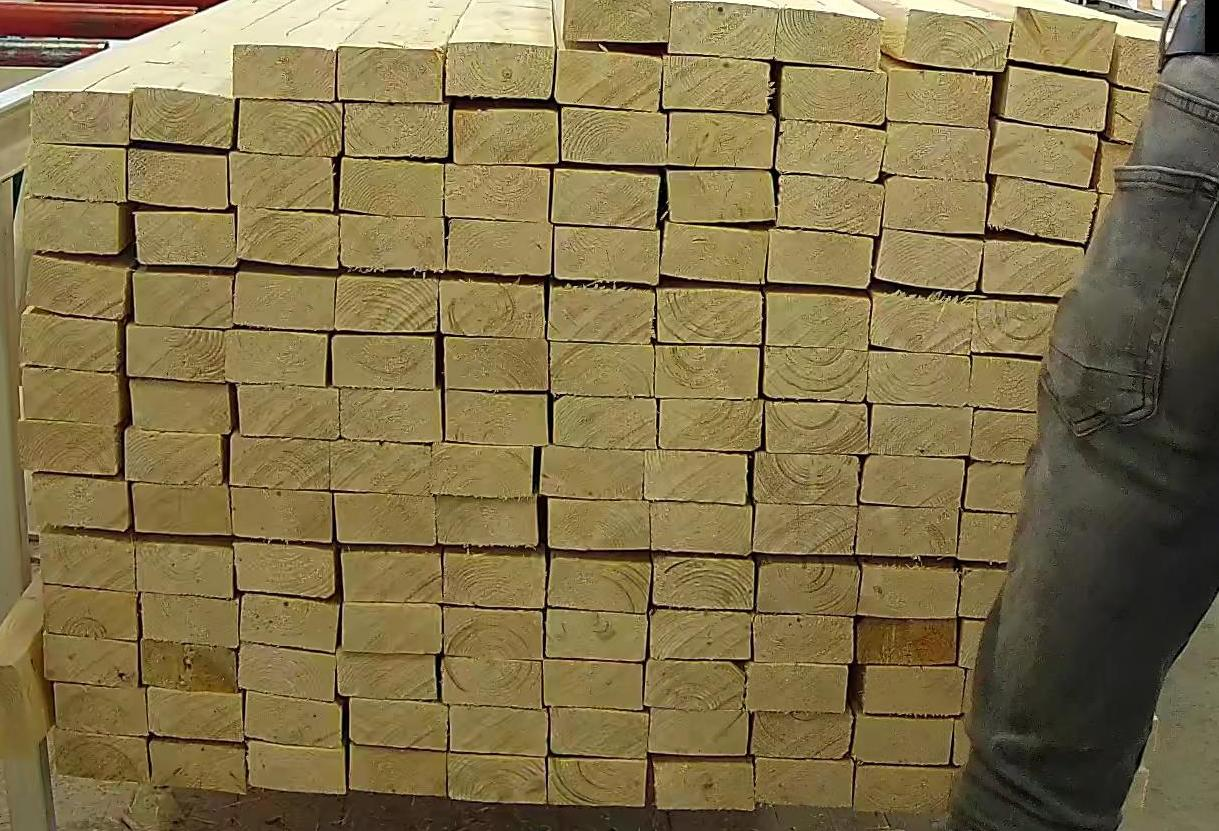Wood-Plank: (995, 64, 1111, 131), (957, 567, 1082, 627), (992, 117, 1100, 186), (990, 175, 1100, 242), (1096, 139, 1210, 202), (1013, 3, 1117, 71), (974, 299, 1092, 358), (25, 253, 130, 319), (773, 9, 884, 71), (661, 221, 770, 284), (876, 228, 985, 291), (555, 47, 663, 110), (887, 63, 995, 126), (777, 119, 888, 180), (960, 513, 1083, 568), (971, 353, 1085, 412), (551, 167, 661, 228), (779, 173, 886, 235), (131, 84, 234, 148), (905, 9, 1010, 71), (780, 64, 888, 124), (20, 307, 120, 371), (548, 553, 652, 614), (1111, 34, 1210, 98), (669, 0, 778, 58), (770, 228, 875, 288), (1108, 85, 1207, 148), (874, 291, 976, 352), (22, 196, 131, 253), (548, 285, 655, 343), (960, 620, 1077, 673), (127, 147, 227, 209), (562, 105, 667, 164), (669, 111, 777, 168), (883, 123, 991, 180), (972, 411, 1080, 468), (339, 156, 443, 215), (555, 225, 659, 284), (448, 217, 553, 275), (664, 54, 769, 112), (234, 270, 335, 330), (21, 367, 125, 425), (237, 98, 341, 156), (334, 274, 438, 332), (440, 279, 544, 337), (886, 175, 990, 233), (237, 207, 337, 267), (340, 214, 445, 271), (124, 426, 223, 486), (132, 268, 231, 328), (453, 108, 559, 164), (982, 238, 1086, 295), (444, 552, 546, 610), (239, 594, 339, 653), (769, 291, 872, 348), (229, 153, 333, 209), (658, 287, 762, 343), (868, 350, 972, 406), (233, 43, 335, 100), (759, 559, 861, 616), (39, 531, 134, 592), (17, 419, 120, 475), (135, 210, 236, 267), (444, 164, 548, 219), (551, 341, 655, 396), (129, 378, 231, 434), (26, 142, 124, 200), (668, 170, 777, 222), (332, 334, 435, 389), (644, 450, 747, 505), (858, 564, 961, 619), (237, 644, 334, 702), (967, 462, 1073, 515), (553, 395, 657, 449), (764, 347, 868, 401), (346, 102, 448, 157), (431, 443, 533, 498), (31, 475, 129, 532), (125, 323, 223, 380), (754, 452, 861, 504), (540, 446, 643, 500), (446, 390, 547, 445), (226, 330, 325, 386), (230, 434, 329, 490), (235, 543, 334, 599), (444, 337, 548, 390), (655, 345, 761, 397), (654, 555, 754, 610), (659, 399, 764, 451), (861, 455, 966, 507), (341, 549, 442, 603), (29, 88, 128, 143), (339, 389, 441, 442), (871, 404, 973, 457), (140, 593, 238, 648), (245, 693, 341, 749), (237, 386, 338, 439), (547, 609, 648, 662), (655, 759, 756, 812), (136, 542, 231, 598), (767, 402, 869, 454), (854, 715, 956, 767), (449, 43, 551, 95), (231, 488, 331, 541), (652, 502, 752, 555), (337, 46, 435, 100), (747, 663, 850, 714), (756, 504, 859, 555), (863, 666, 966, 717), (341, 603, 442, 655), (335, 494, 436, 546), (444, 607, 543, 660), (442, 657, 542, 709), (860, 505, 960, 557), (331, 442, 429, 495), (149, 740, 245, 794), (248, 742, 345, 795), (544, 660, 644, 711), (652, 609, 752, 660), (645, 660, 745, 711), (51, 729, 147, 782), (146, 688, 242, 741), (336, 651, 437, 701), (756, 758, 855, 809), (755, 614, 854, 665), (855, 766, 958, 815), (349, 699, 446, 751), (42, 635, 137, 688), (448, 754, 546, 805), (550, 710, 649, 760), (437, 498, 538, 547), (349, 746, 446, 797), (751, 712, 854, 760), (53, 683, 146, 736), (450, 707, 548, 757), (548, 500, 650, 548), (132, 485, 229, 535), (43, 587, 136, 639), (650, 709, 749, 757), (140, 642, 235, 692), (549, 760, 646, 808), (857, 618, 957, 664), (564, 0, 671, 41)
